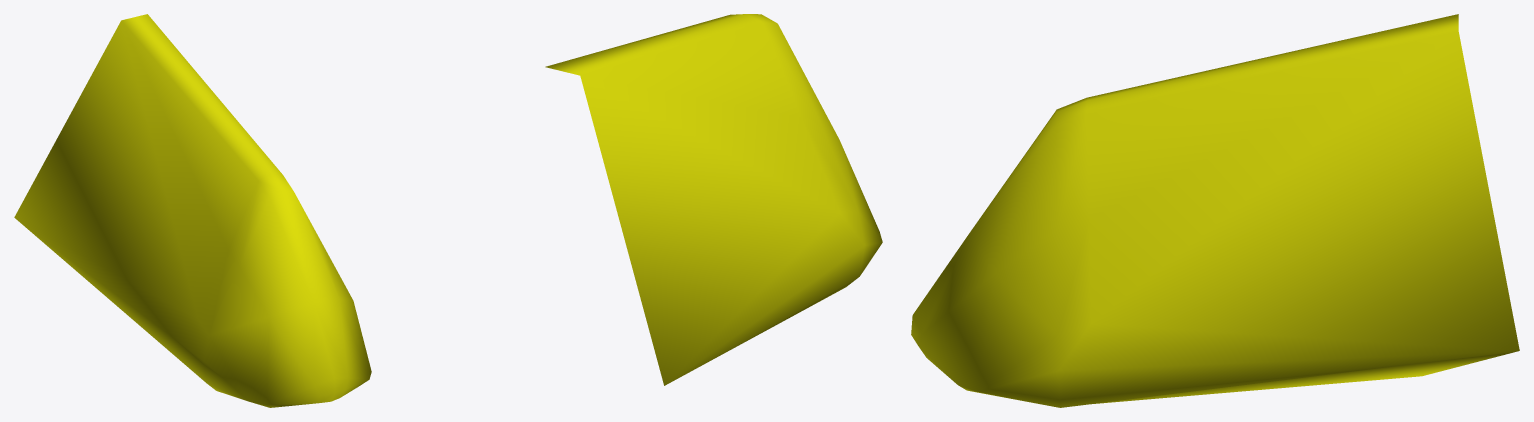
File: Nose_13.glb
3 renders of one model, left to right at view 1: azimuth 30°, elevation 25°; view 2: azimuth 150°, elevation 25°; view 3: azimuth 270°, elevation 25°, orthographic. The views are drawn at different scales.
Size of the model in its own units: 10.08 by 12.77 by 19.92.
